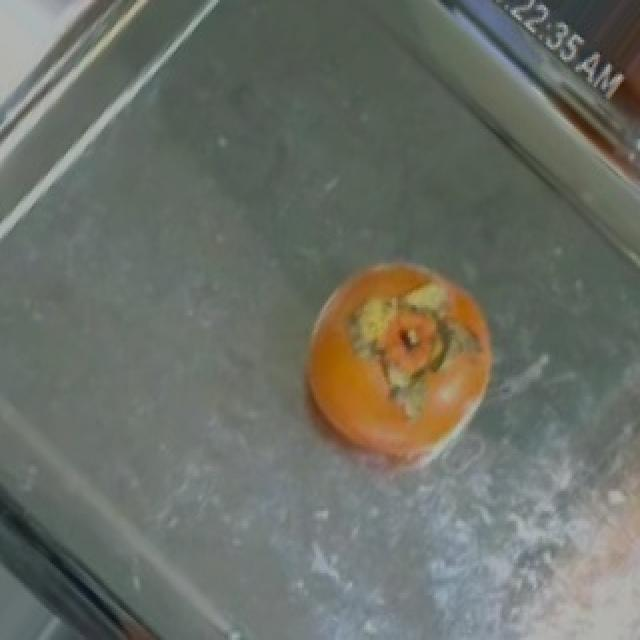Fruit: (284, 243, 522, 494)
